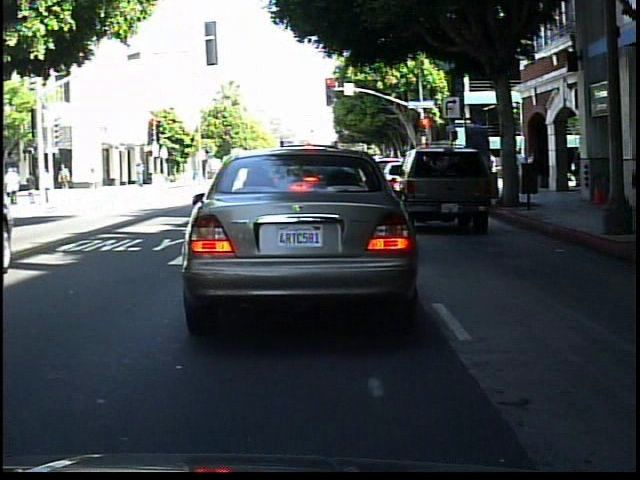person: (616, 141, 639, 222), (590, 141, 612, 217), (85, 160, 102, 197), (41, 163, 55, 207), (57, 161, 74, 192), (134, 161, 150, 191), (27, 168, 39, 206)
